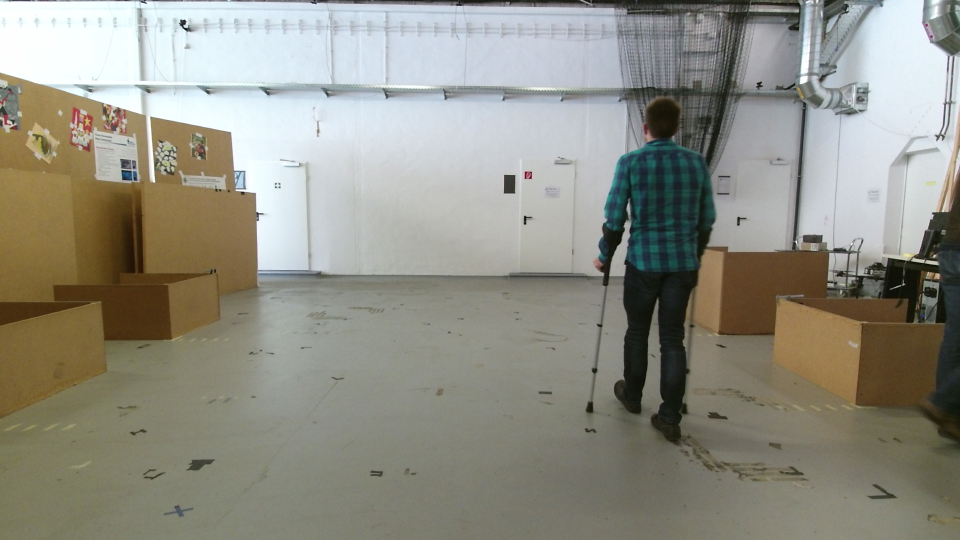crutches: (570, 92, 723, 449)
